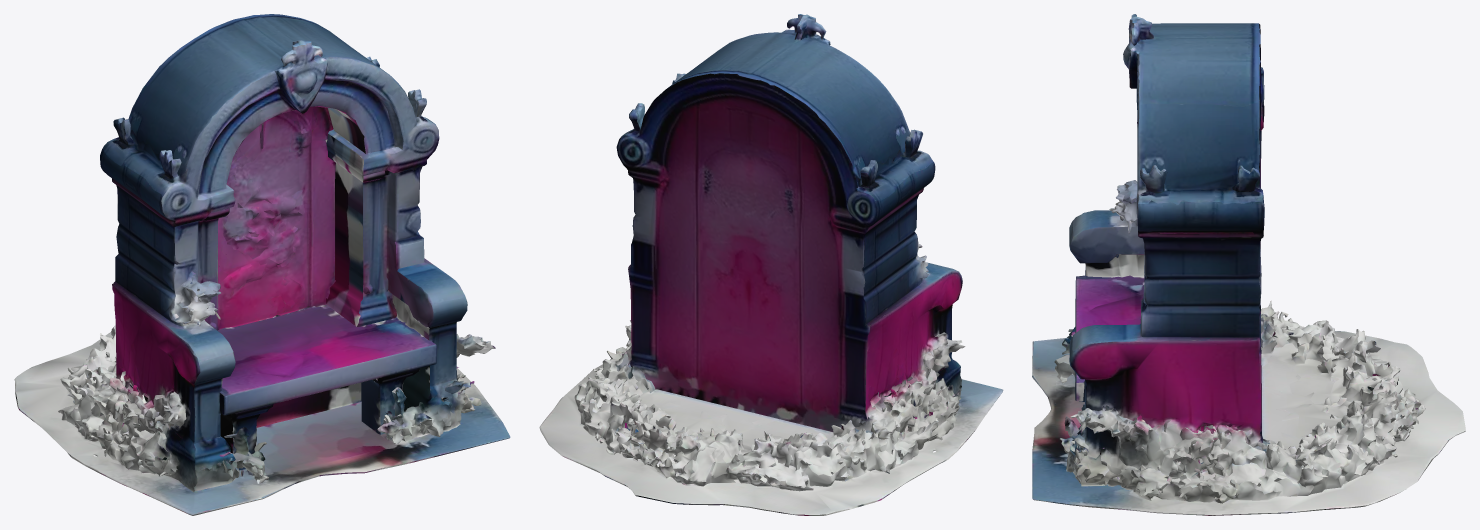
File: bench-growth-generated-2026-05-17T18-58-08-187Z.medium.glb
The picture shows the model from 3 angles, left to right: view 1: azimuth 30°, elevation 25°; view 2: azimuth 150°, elevation 25°; view 3: azimuth 270°, elevation 25°; orthographic projection. The views are drawn at different scales.
Visible parts, largest first — view 1: temp_mesh.ply; view 2: temp_mesh.ply; view 3: temp_mesh.ply.
Boxes of the visible parts, box(x1,y1,x2,y2) form: temp_mesh.ply: box(14, 14, 510, 515); temp_mesh.ply: box(539, 14, 1003, 515); temp_mesh.ply: box(1032, 14, 1465, 515).
Size of the model in its own units: 1.97 by 1.97 by 1.91.
Materials: 1 (1 with a texture image).
